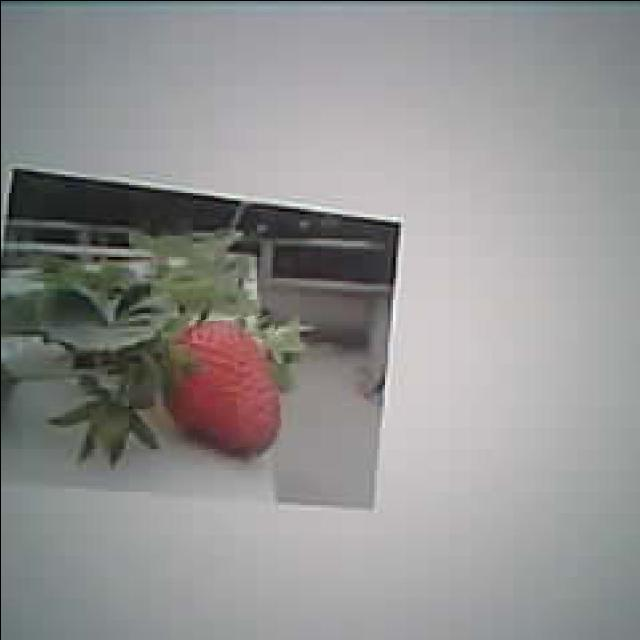strawberry: (162, 316, 280, 452)
